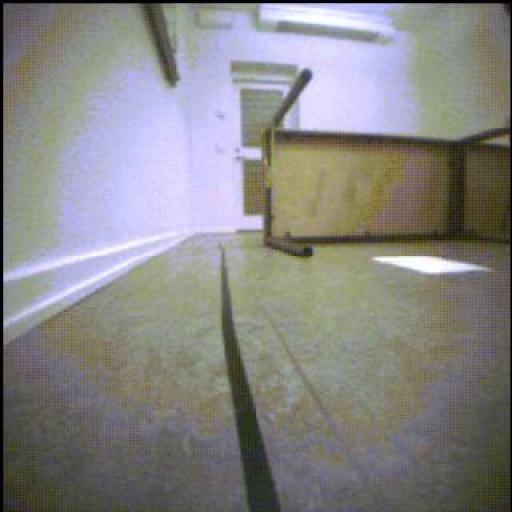Pad: (376, 257, 479, 277)
